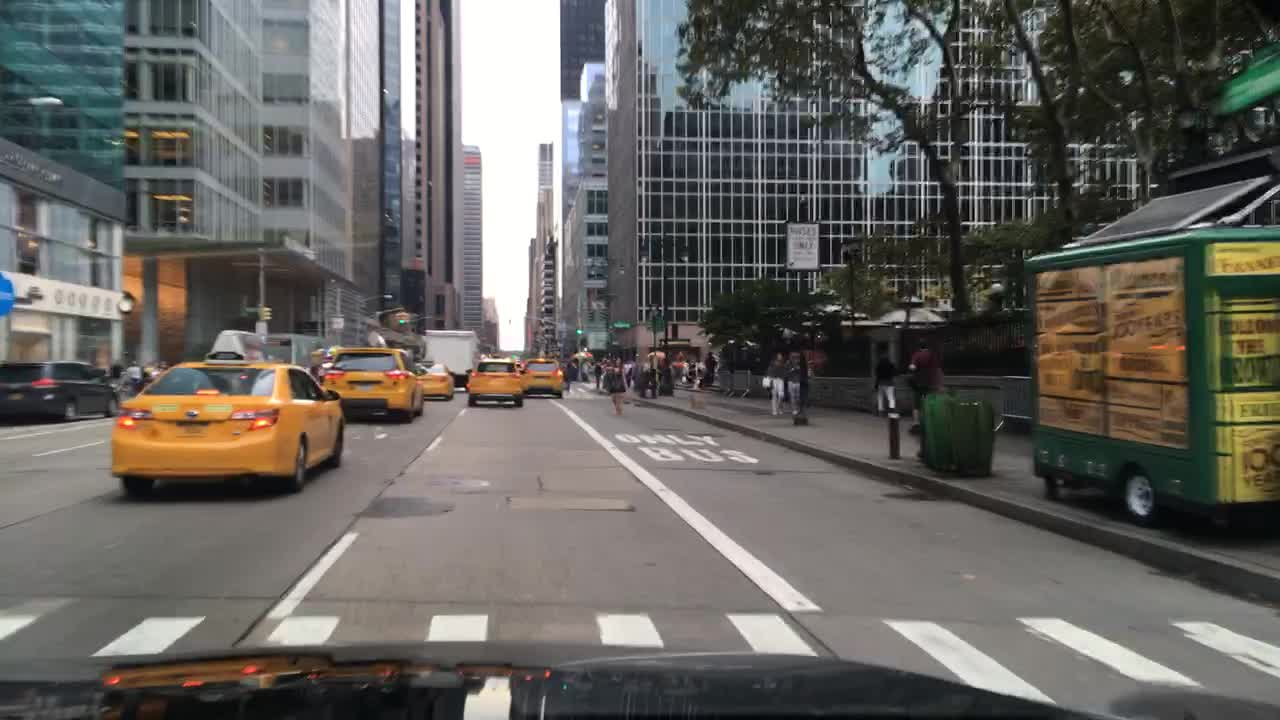car: (110, 328, 344, 502), (316, 346, 425, 423), (1, 360, 109, 421), (467, 355, 522, 407), (411, 360, 454, 399), (524, 357, 562, 399), (515, 357, 521, 368)
person: (912, 339, 941, 436), (875, 340, 899, 420), (786, 350, 803, 413), (770, 353, 786, 418), (612, 357, 626, 415), (126, 358, 143, 395), (704, 348, 716, 385), (687, 358, 702, 381), (593, 360, 603, 392), (678, 357, 689, 382)
traffic light: (260, 305, 272, 320), (576, 324, 583, 336), (584, 348, 591, 360), (399, 312, 404, 325), (406, 307, 410, 323), (395, 311, 399, 327)
traffic sign: (785, 222, 818, 270), (0, 276, 17, 321), (611, 320, 631, 329), (333, 317, 344, 329), (655, 316, 665, 329)
truck: (425, 330, 477, 391), (261, 331, 315, 375)
